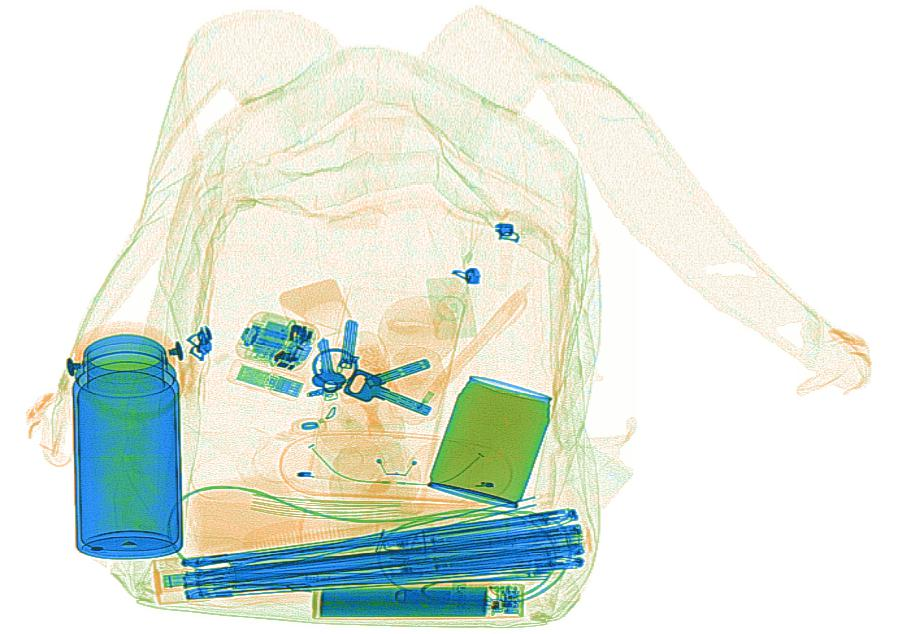USBFlashDisk: (234, 364, 304, 401)
